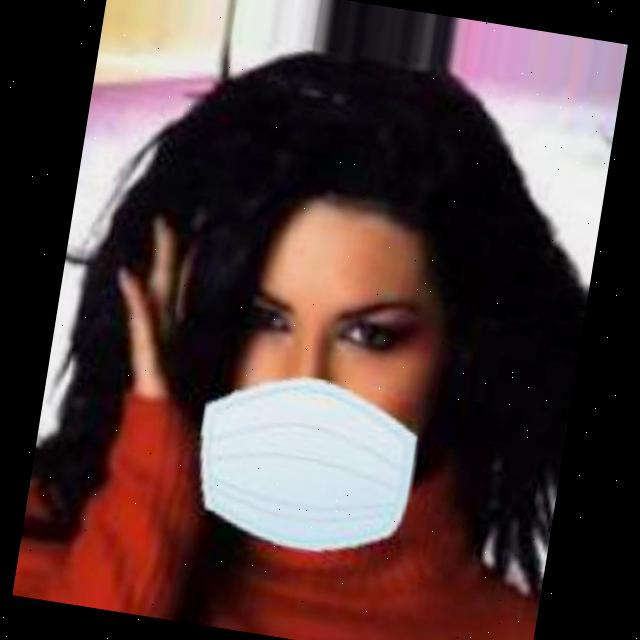suspicion: (118, 137, 524, 594)
